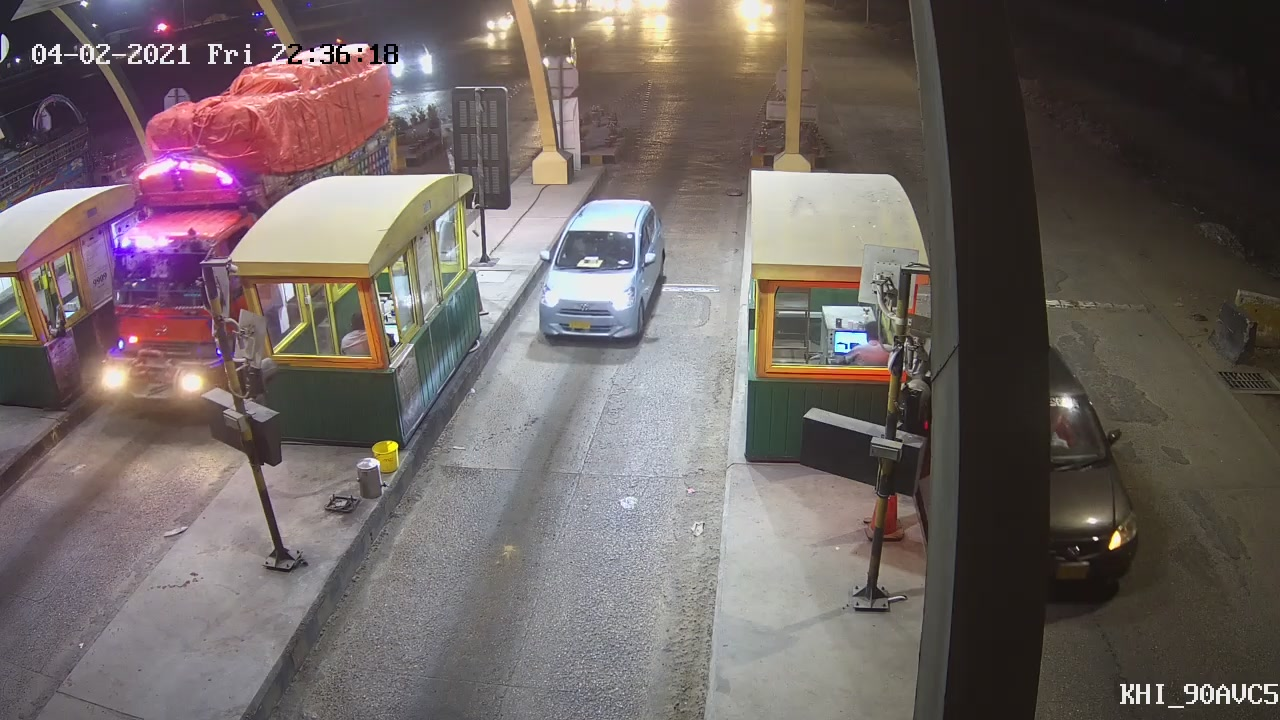F1: (532, 195, 670, 348)
